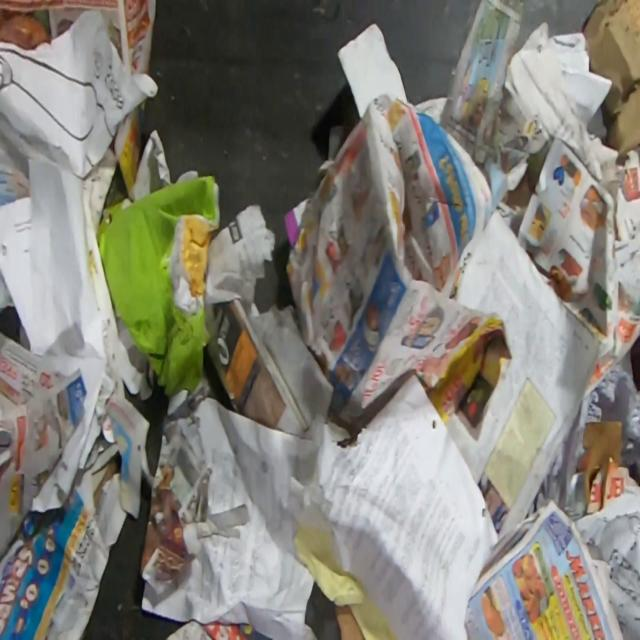cardboard: (103, 175, 220, 396), (580, 0, 640, 163), (575, 418, 623, 511), (96, 178, 133, 263), (334, 602, 364, 639)
